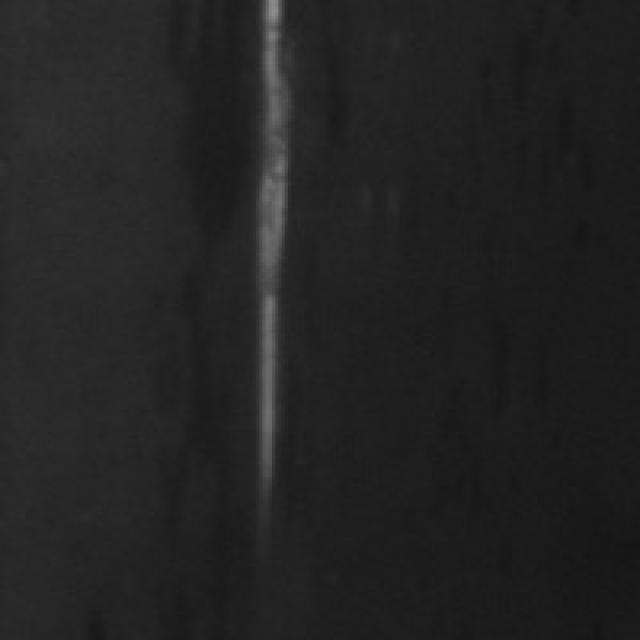scratches: (233, 0, 300, 506)
